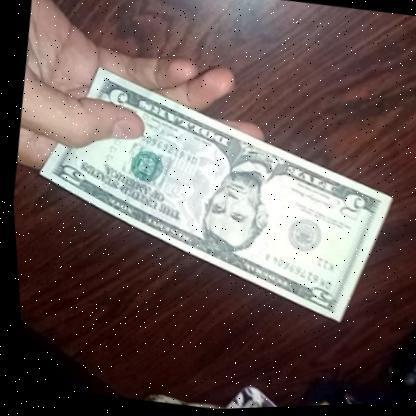dollar_front: (13, 48, 415, 338)
